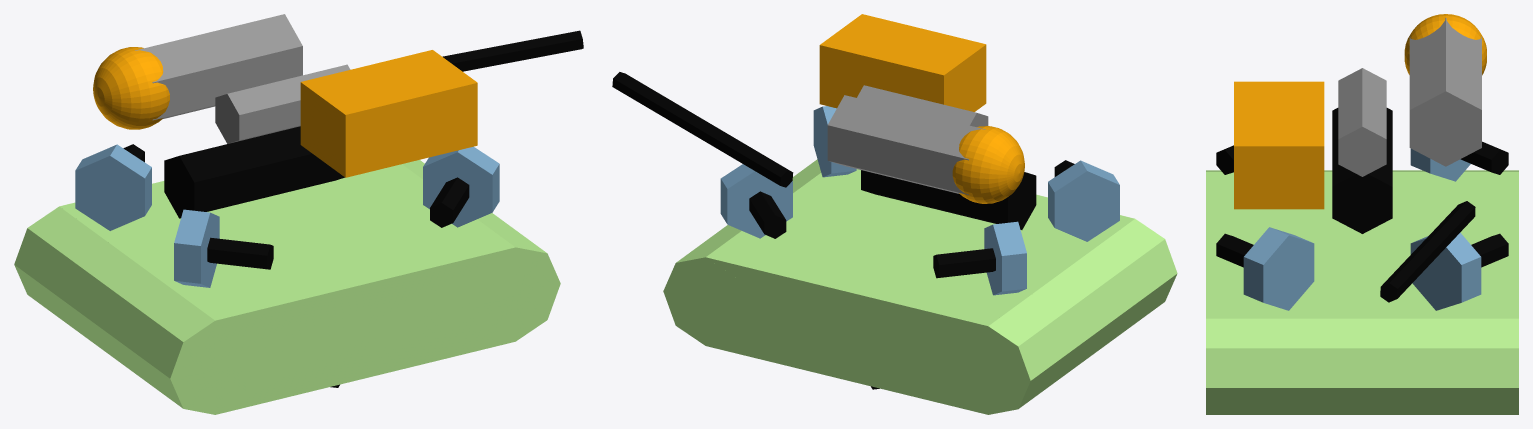
Rendered from seabotix.dae.
3 views of the same model, side by side, from view 1: azimuth 30°, elevation 25°; view 2: azimuth 150°, elevation 25°; view 3: azimuth 270°, elevation 25° (orthographic). The views are drawn at different scales.
Parts seen in each view (by area): view 1: base_link, rear_bumper, sonar, dvl, seabotix_bottle, front_bumper, sa_fan, dvl_head, greensea, pf_fan, pa_fan, gripper_pole (+2 smaller); view 2: base_link, rear_bumper, sonar, dvl, front_bumper, pa_fan, dvl_head, seabotix_bottle, gripper_pole, sf_fan, sa_fan, greensea (+3 smaller); view 3: front_bumper, base_link, sonar, dvl, greensea, pf_fan, seabotix_bottle, sf_fan, gripper_pole, dvl_head, sa_fan, sa_thruster (+3 smaller).
Part boxes in pixels (box(x1,y1,x2,y2)): base_link: box(59, 164, 515, 414); rear_bumper: box(14, 206, 259, 414); sonar: box(300, 50, 477, 177); dvl: box(135, 14, 302, 120); seabotix_bottle: box(164, 126, 344, 218); front_bumper: box(402, 160, 560, 341); sa_fan: box(75, 144, 151, 230); dvl_head: box(93, 47, 169, 129); greensea: box(215, 64, 350, 143); pf_fan: box(423, 146, 499, 227); pa_fan: box(174, 209, 219, 287); gripper_pole: box(442, 30, 583, 71); base_link: box(705, 169, 1134, 414); rear_bumper: box(946, 219, 1177, 414); sonar: box(819, 14, 986, 111); dvl: box(827, 95, 985, 194); front_bumper: box(663, 159, 820, 345); pa_fan: box(1048, 160, 1119, 241); dvl_head: box(952, 126, 1024, 203); seabotix_bottle: box(861, 170, 1036, 229); gripper_pole: box(612, 72, 793, 187); sf_fan: box(720, 164, 792, 238); sa_fan: box(984, 221, 1026, 295); greensea: box(857, 85, 988, 126); front_bumper: box(1206, 318, 1518, 414); base_link: box(1206, 172, 1518, 318); sonar: box(1234, 81, 1324, 209); dvl: box(1409, 18, 1481, 166); greensea: box(1338, 68, 1386, 176); pf_fan: box(1243, 227, 1314, 310); seabotix_bottle: box(1332, 108, 1392, 233); sf_fan: box(1410, 232, 1481, 310); gripper_pole: box(1380, 201, 1475, 302); dvl_head: box(1404, 14, 1486, 75); sa_fan: box(1410, 148, 1470, 181); sa_thruster: box(1460, 141, 1508, 174).
Size of the model in its own units: 0.8408 by 0.45 by 0.43.
